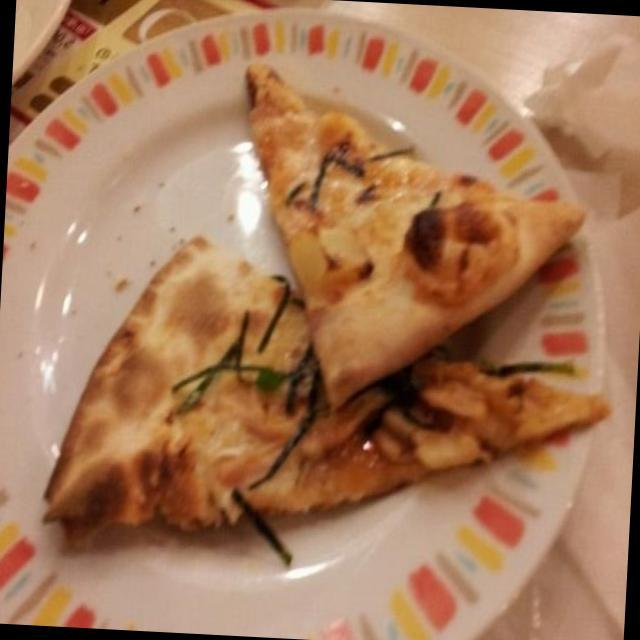Pizza: (121, 49, 604, 549)
